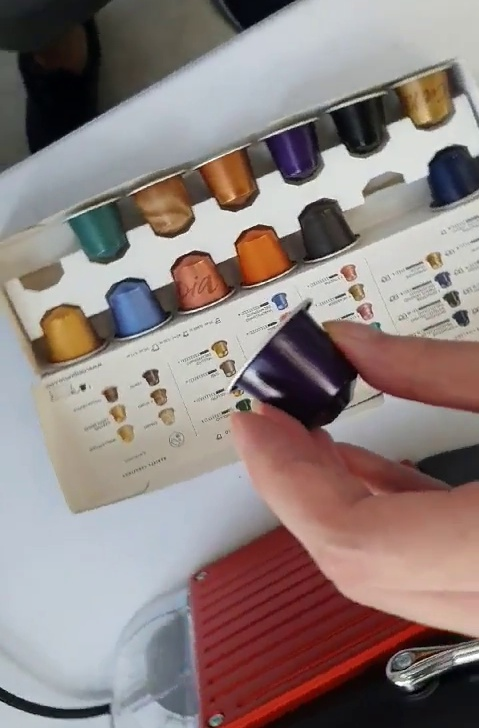capsule_2: (232, 296, 366, 436)
